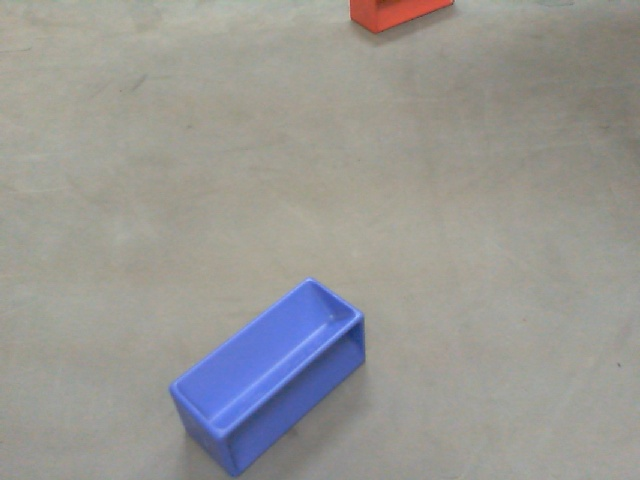BlueSample: (158, 273, 373, 477)
RedSample: (345, 1, 459, 37)
